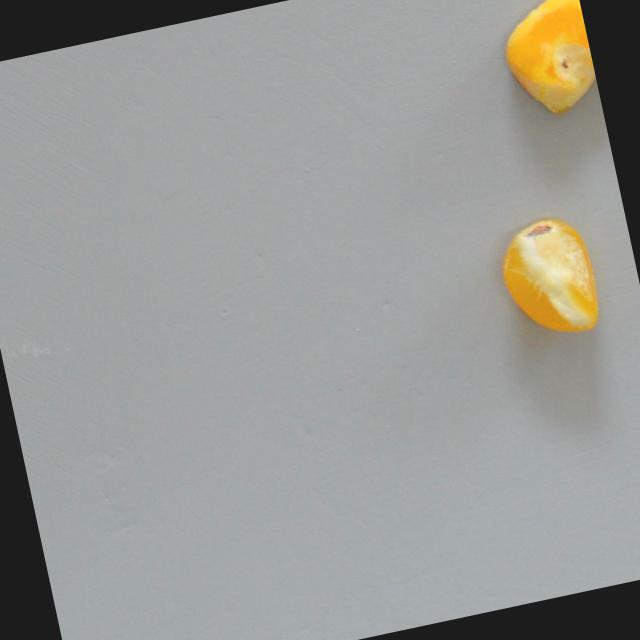dañado: (484, 206, 618, 349)
punto_negro: (490, 0, 602, 126)
